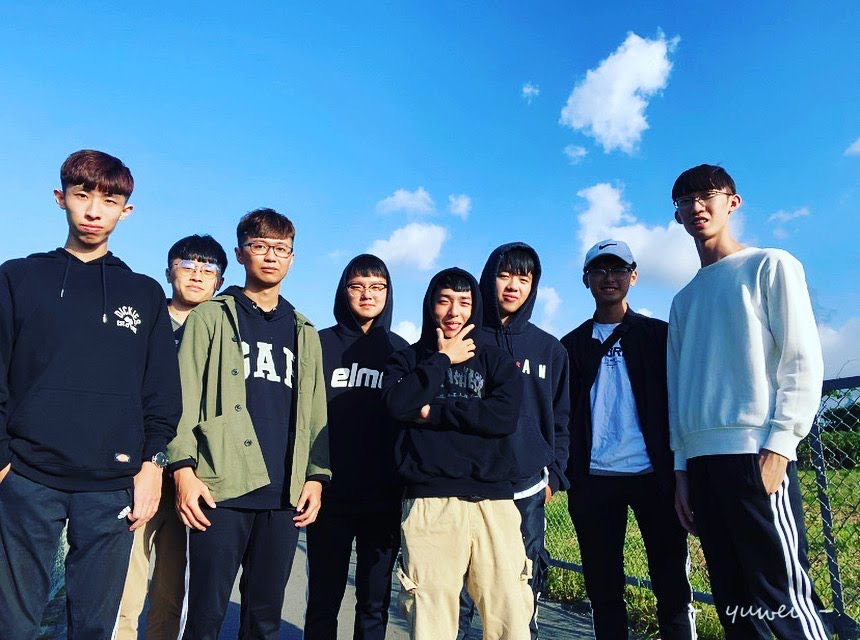people: (659, 165, 824, 640), (2, 150, 139, 633), (185, 209, 314, 640), (407, 267, 529, 640), (564, 241, 670, 639), (142, 234, 229, 640), (308, 254, 394, 640), (469, 241, 551, 634)
